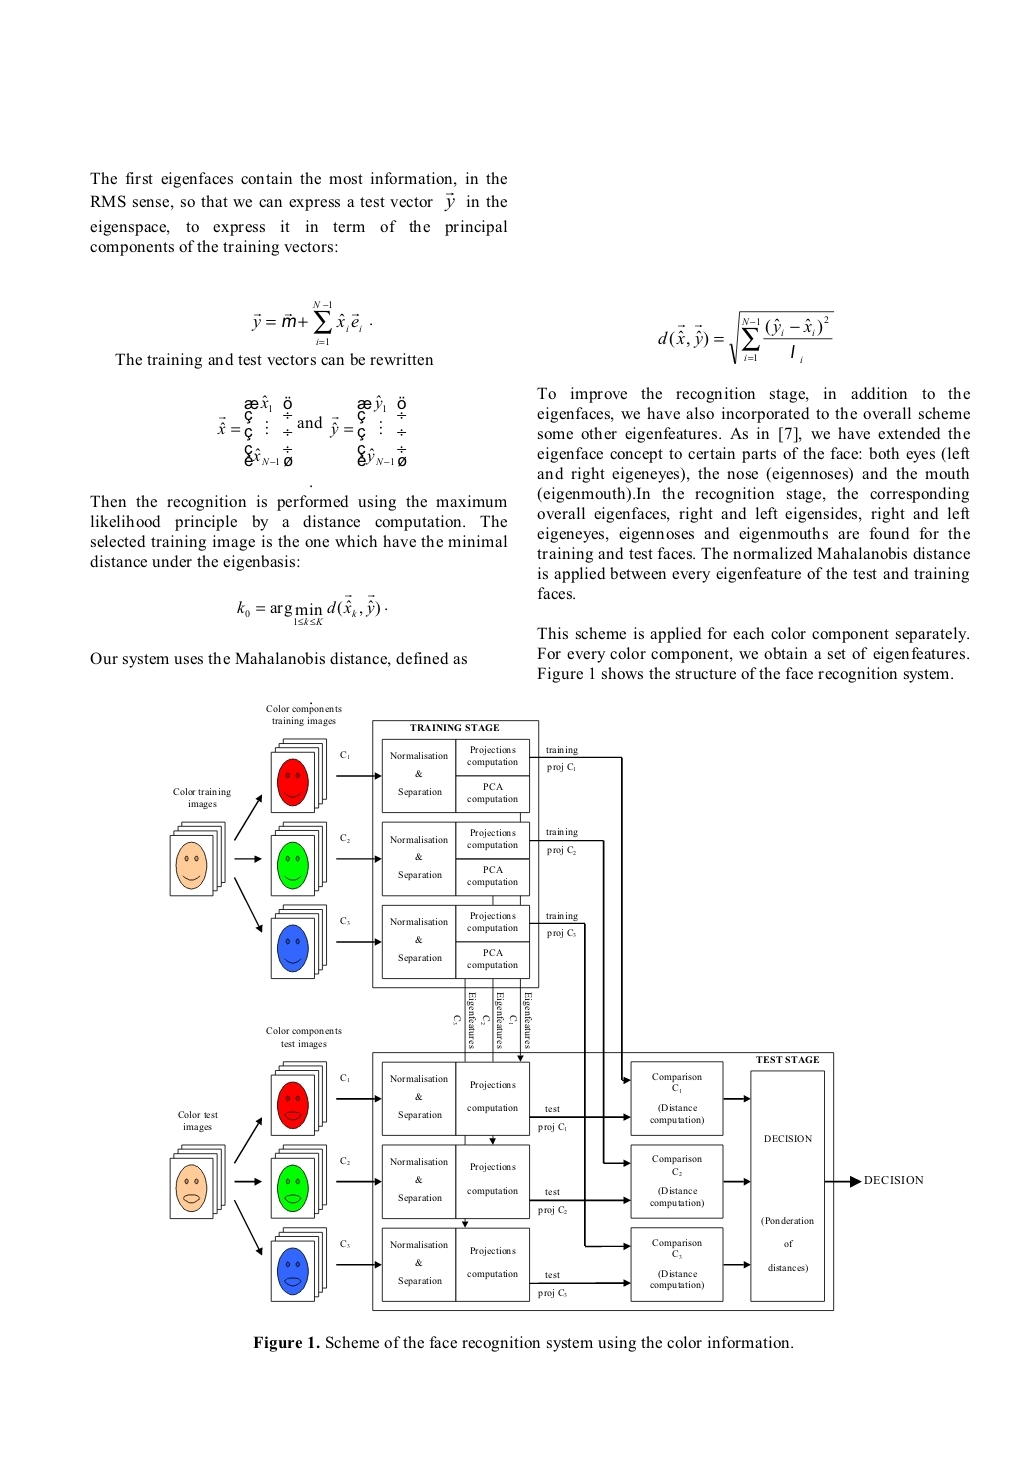figure: (168, 702, 923, 1310)
formula: (216, 395, 406, 466), (658, 310, 834, 364), (251, 301, 370, 344), (237, 595, 386, 624)
